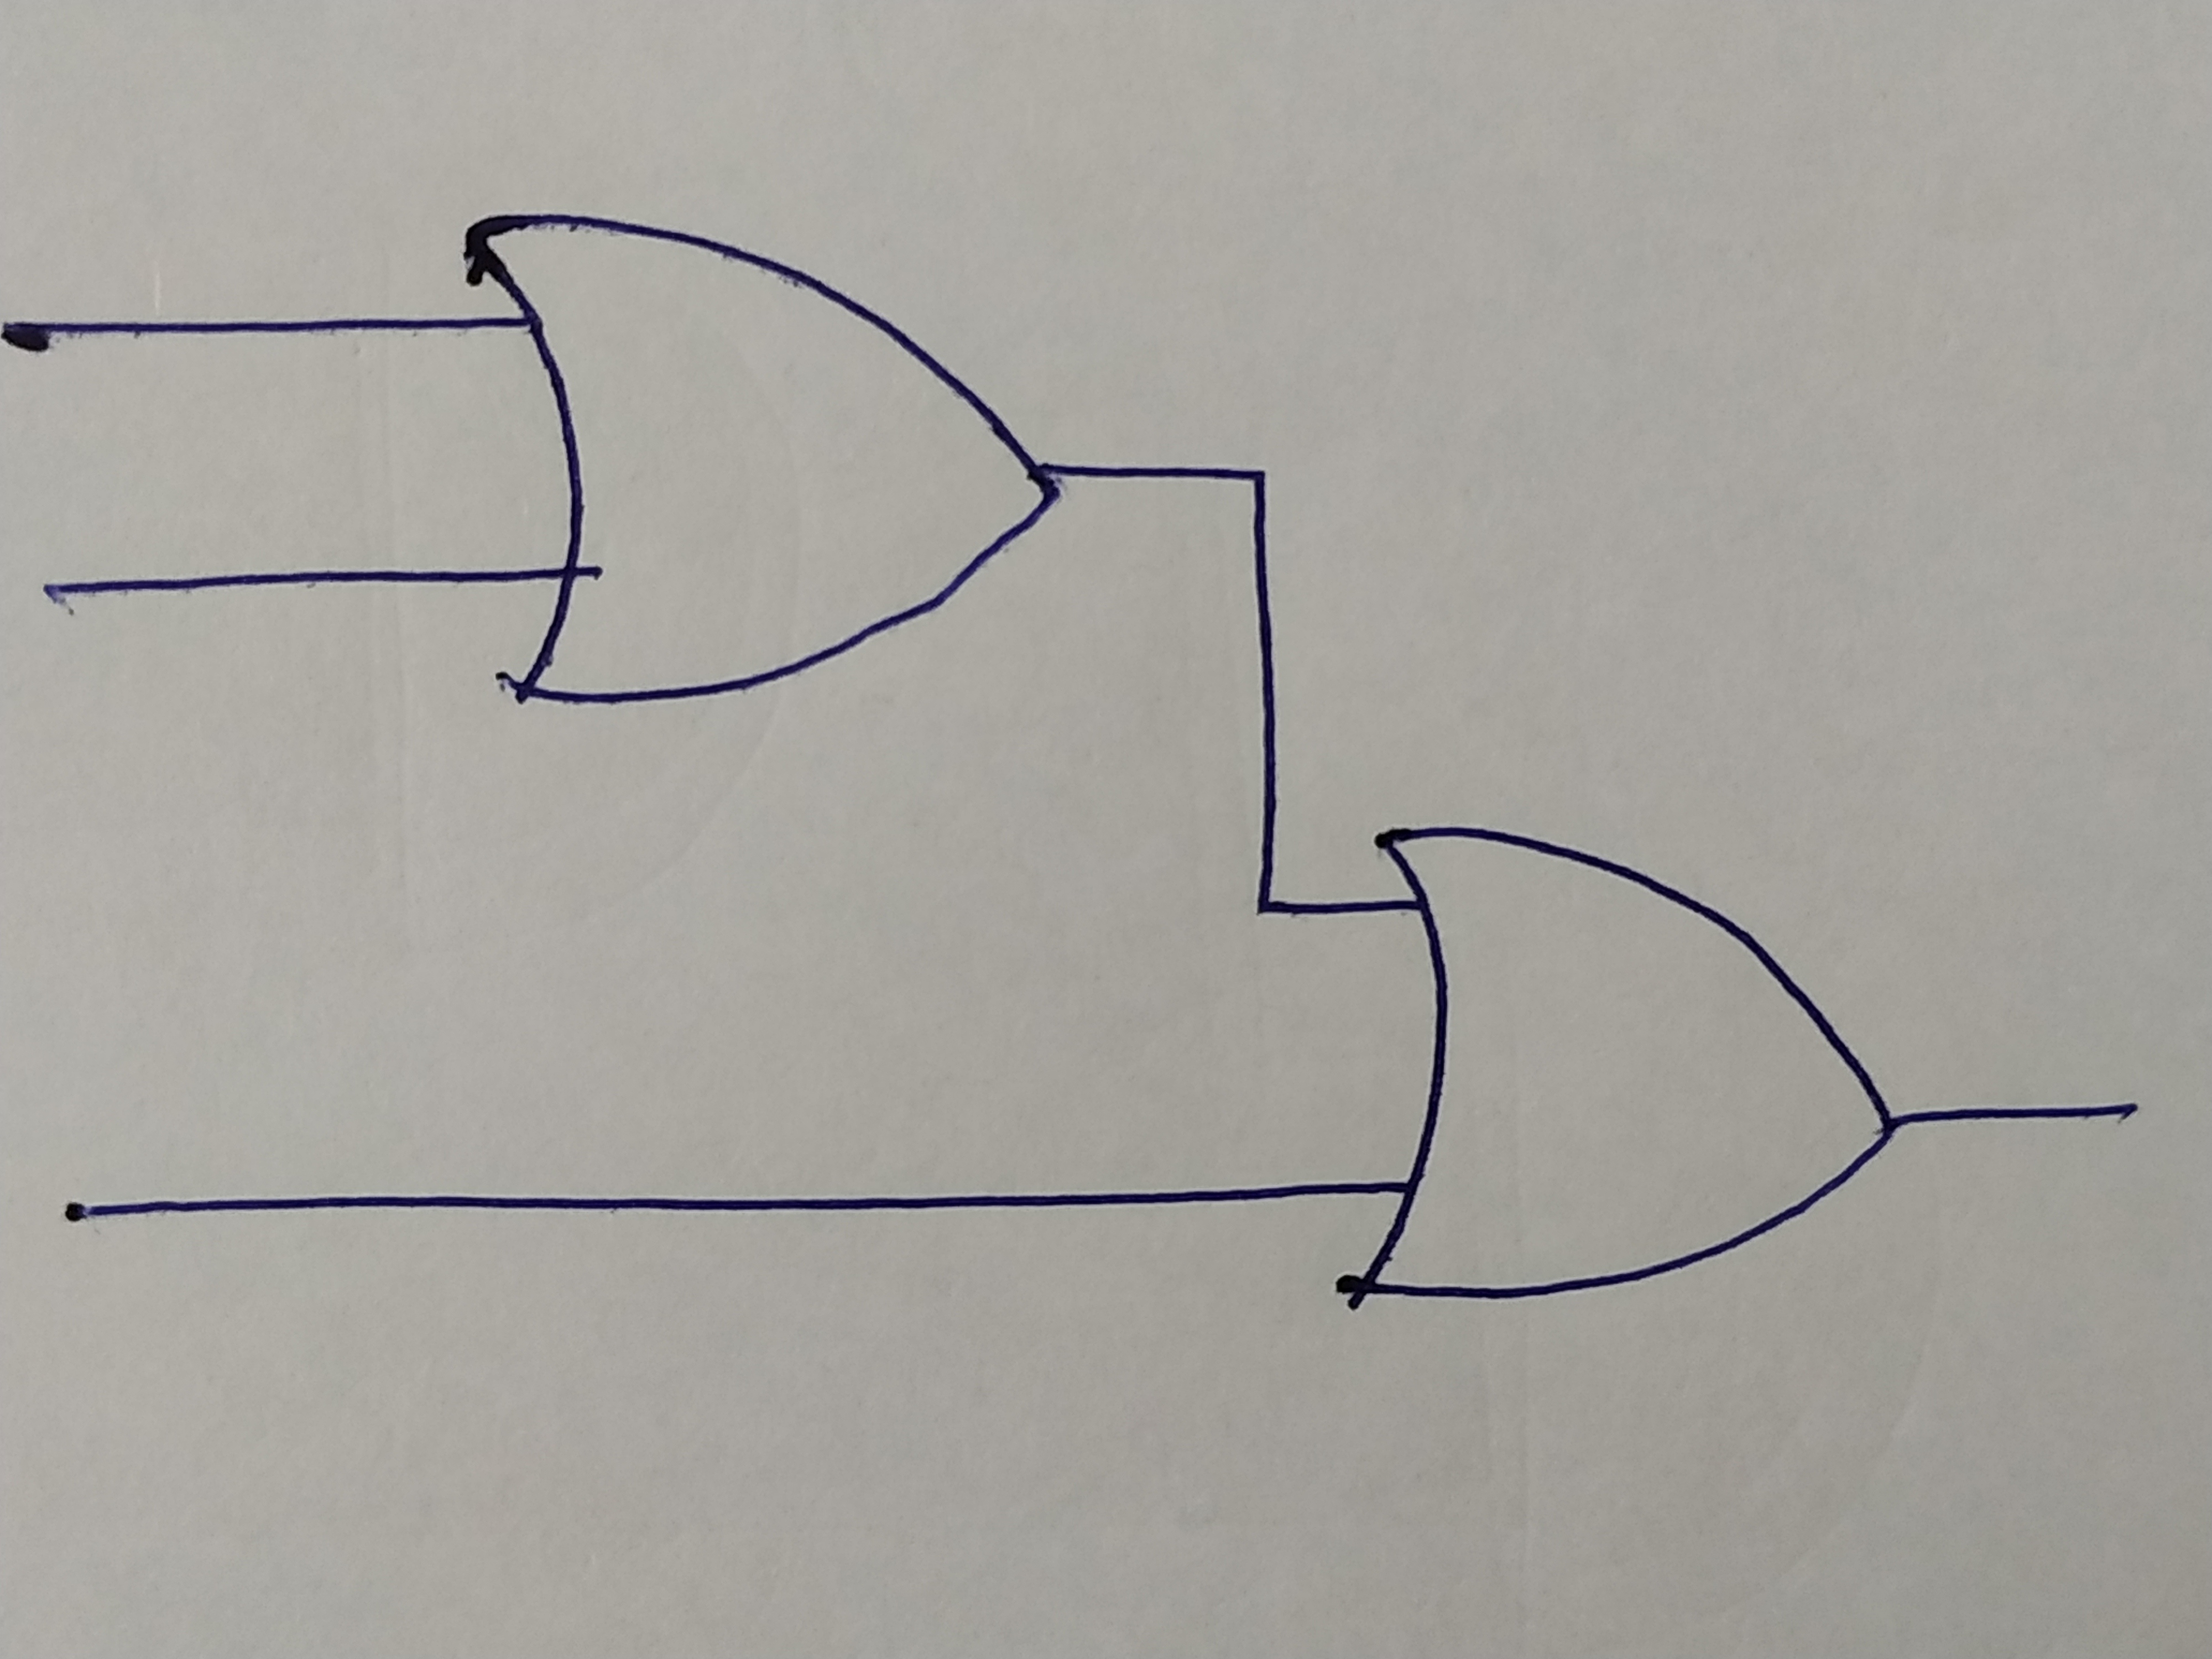or: (460, 216, 1068, 697), (1376, 828, 1898, 1303)
